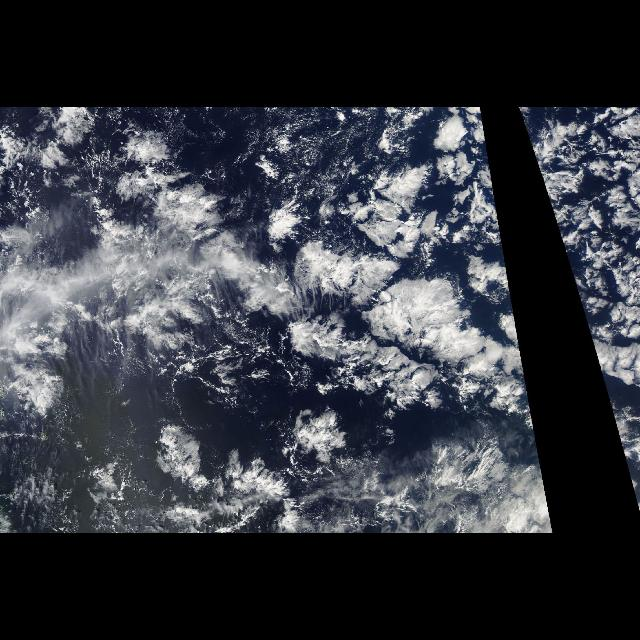Flower: (237, 109, 535, 464), (518, 108, 634, 290)
Sugar: (209, 110, 363, 202)
